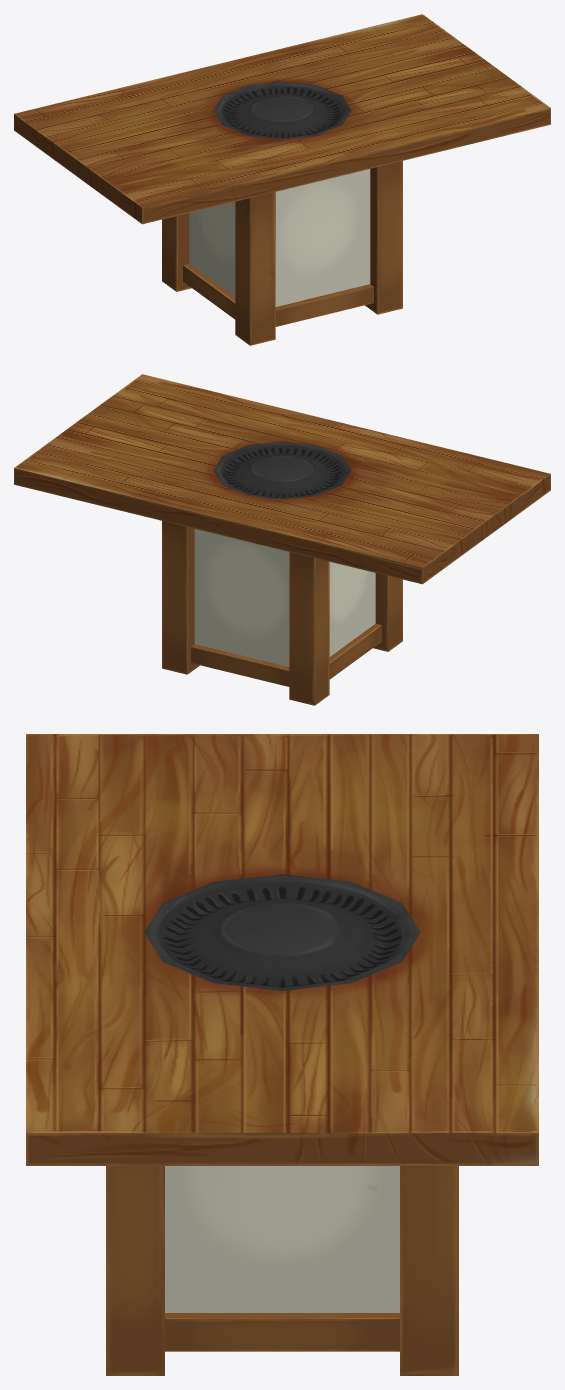
The model's file is table.fbx.
3 renders of one model, top to bottom at view 1: azimuth 30°, elevation 25°; view 2: azimuth 150°, elevation 25°; view 3: azimuth 270°, elevation 25°, orthographic. The views are drawn at different scales.
Visible parts, largest first — view 1: table, grill; view 2: table, grill; view 3: table, grill.
Part boxes in pixels (<box>): table: <box>14,14,550,345</box>; grill: <box>213,81,351,139</box>; table: <box>14,374,550,705</box>; grill: <box>213,441,351,499</box>; table: <box>26,734,538,1375</box>; grill: <box>144,874,420,990</box>.
Bounding box in the file's own units: 642 × 279 × 349.
